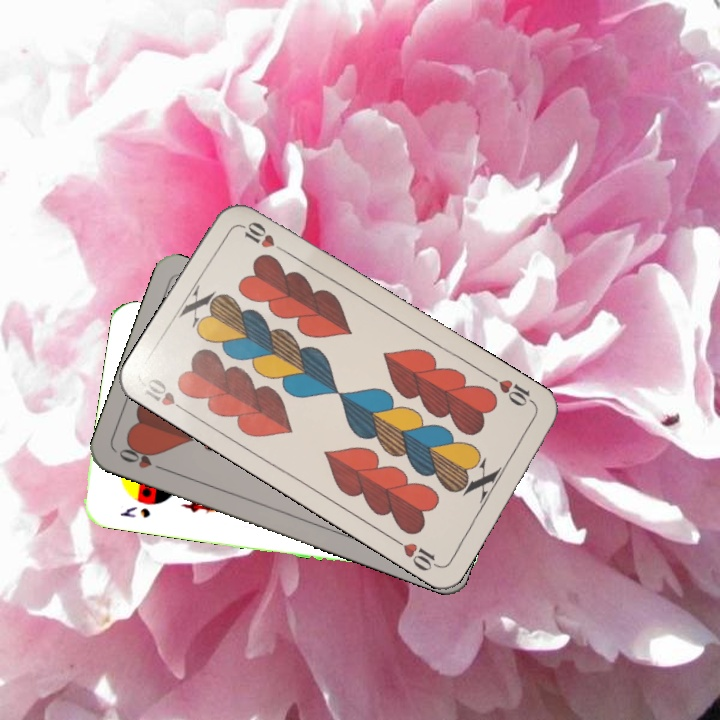H10: (140, 374, 193, 417), (486, 372, 539, 410)
HO: (114, 441, 171, 474)
SK: (115, 502, 153, 521)
